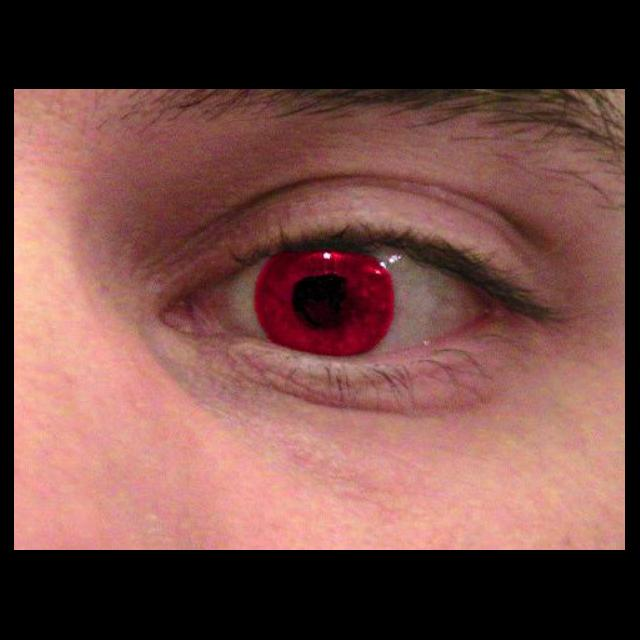eye: (219, 245, 492, 360)
iris: (255, 253, 393, 356)
